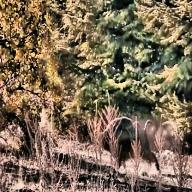boar: (99, 106, 163, 180)
